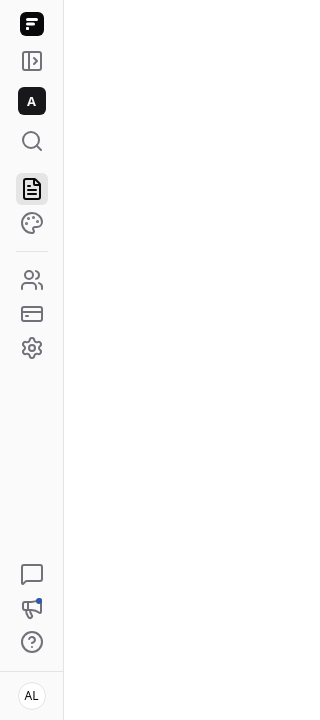
Sidebar collapse › names each icon in a tooltip in the rail
Hover over the link named "Members" at x=32, y=280, box [20, 268, 44, 292]
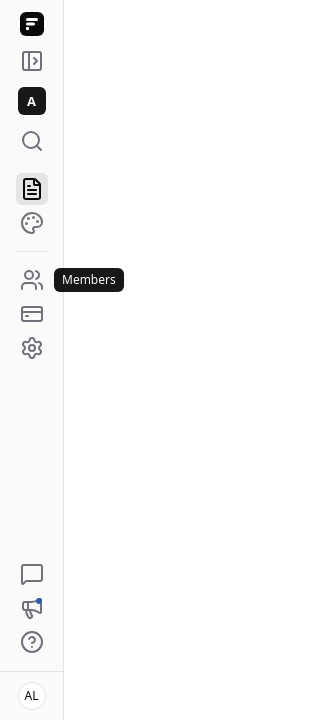
Expected: the tooltip reads "Members", [62, 271, 116, 288]
